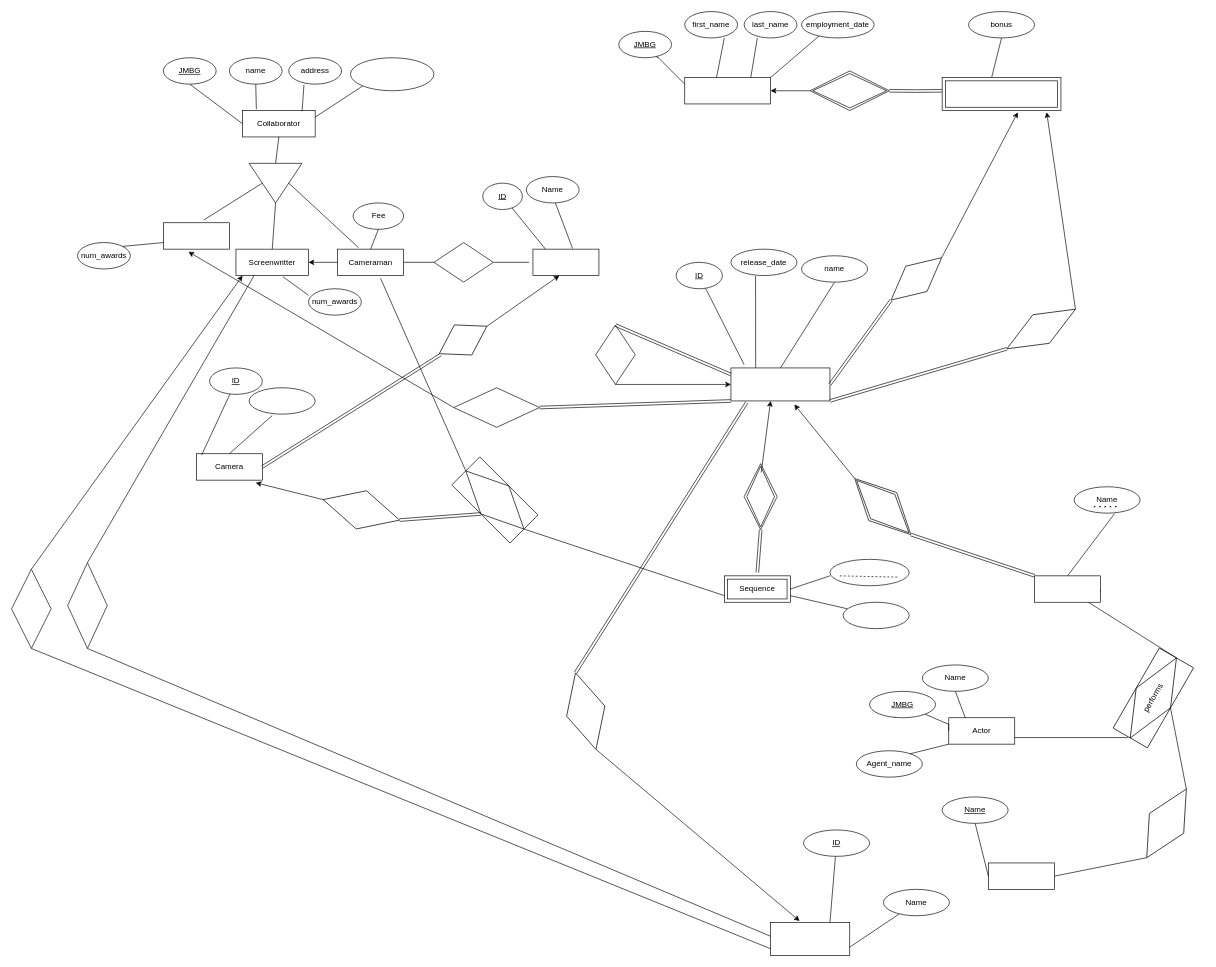
The diagram is 1216 pixels wide and 967 high, and some of its shapes have lost their labels. Here are the shapes that lost their labels. From the top down, the centre of each, then its label:
At point (392, 74): "bank_account_number".
At point (727, 90): "Employee".
At point (1001, 94): "Producer".
At point (196, 235): "Director".
At point (463, 262): "Certification".
At point (565, 262): "Camera_Brand".
At point (281, 400): "production_year".
At point (780, 384): "Film".
At point (494, 499): "shoots".
At point (869, 572): "sequence_number".
At point (1067, 588): "Character".
At point (87, 605): "work on".
At point (875, 615): "duration_minutes".
At point (1166, 823): "won aword".
At point (1021, 875): "Award".
At point (810, 938): "Script".
